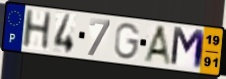4: (52, 12, 76, 56)
7: (87, 17, 112, 57)
A: (142, 24, 174, 68)
G: (113, 21, 142, 61)
H: (20, 8, 54, 50)
M: (168, 25, 207, 72)
